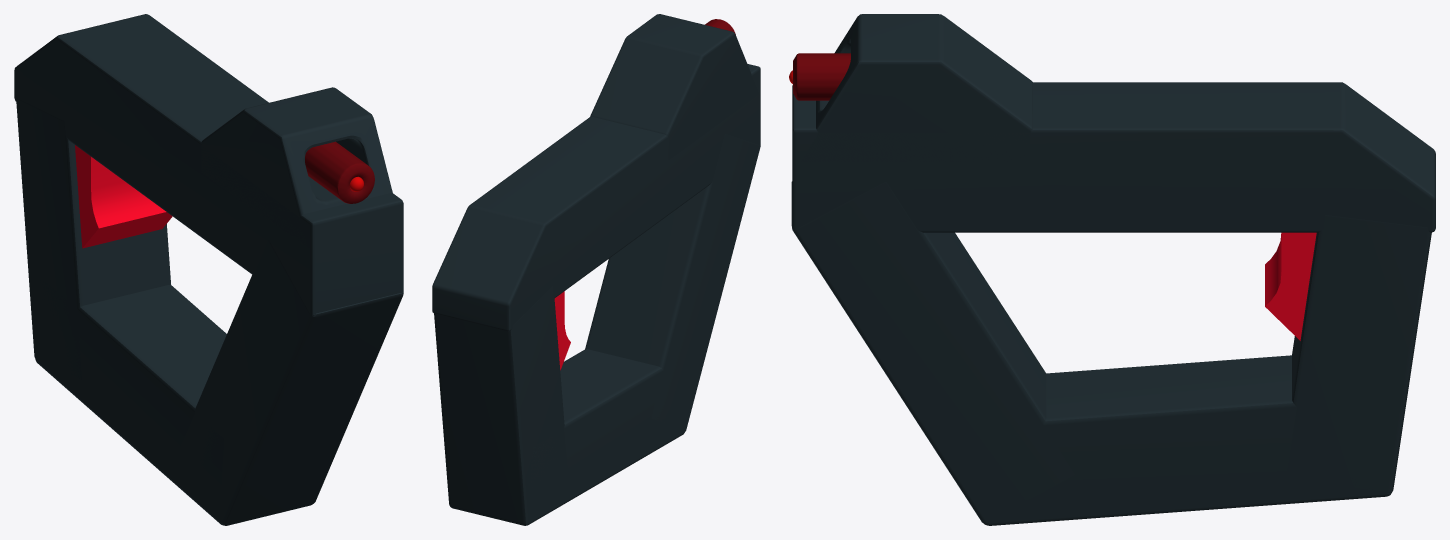
File: Arc Welder Basic Final.fbx
3 renders of one model, left to right at view 1: azimuth 30°, elevation 25°; view 2: azimuth 150°, elevation 25°; view 3: azimuth 270°, elevation 25°, orthographic. The views are drawn at different scales.
Parts seen in each view (by area): view 1: pCube13, pCube9, pCube14, pCylinder1; view 2: pCube13, pCube9, pCube14; view 3: pCube13, pCube9, pCube14, pCylinder1.
Part boxes in pixels (box(x1,y1,x2,y2)): pCube13: box(16, 98, 403, 525); pCube9: box(14, 14, 403, 316); pCube14: box(75, 145, 172, 248); pCylinder1: box(305, 141, 374, 203); pCube13: box(434, 134, 760, 525); pCube9: box(432, 14, 760, 331); pCube14: box(554, 291, 570, 370); pCube13: box(791, 181, 1431, 525); pCube9: box(792, 14, 1435, 232); pCube14: box(1265, 232, 1316, 340); pCylinder1: box(793, 53, 850, 100).
Bounding box in the file's own units: 0.0604 × 0.2675 × 0.3359.
